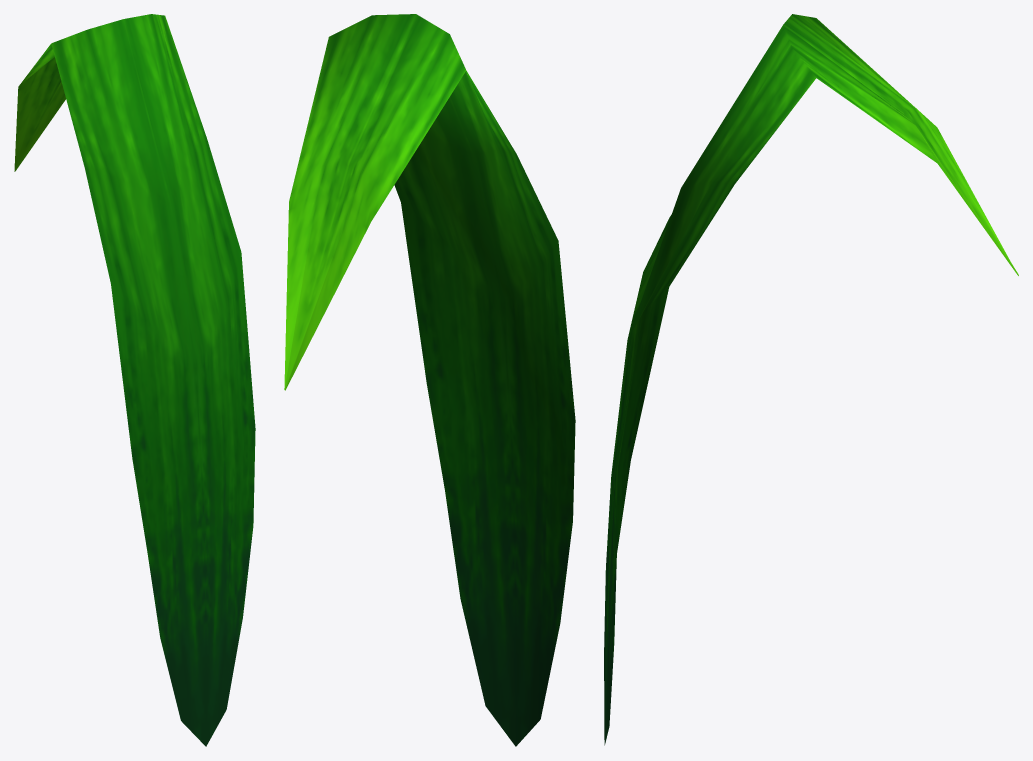
File: leaf-long.fbx
3 views of the same model, side by side, from view 1: azimuth 30°, elevation 25°; view 2: azimuth 150°, elevation 25°; view 3: azimuth 270°, elevation 25° (orthographic). The views are drawn at different scales.
Parts seen in each view (by area): view 1: leaf-long; view 2: leaf-long; view 3: leaf-long.
Part boxes in pixels (x1,y1,x2,y2): leaf-long: (14, 14, 255, 746); leaf-long: (284, 14, 575, 746); leaf-long: (604, 14, 1018, 745).
Size of the model in its own units: 95.51 by 467 by 243.
